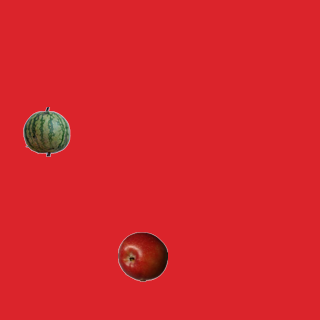Apple Braeburn: (117, 231, 167, 281)
Watermelon: (21, 106, 71, 156)
